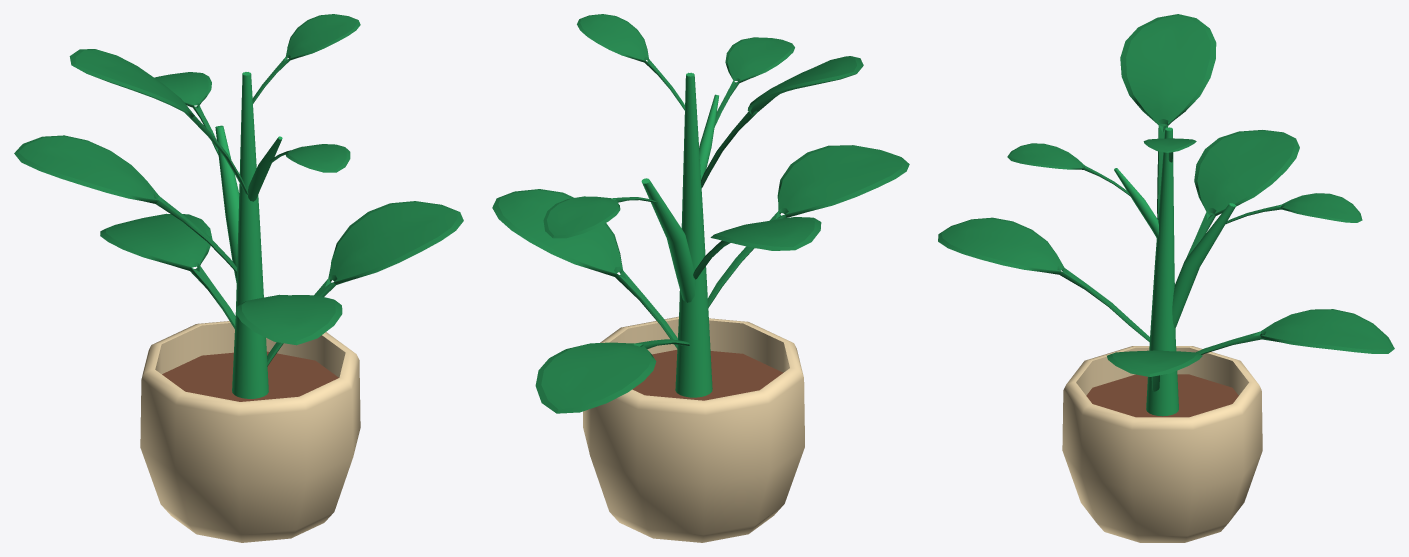
The model's file is Plant.fbx.
3 views of the same model, side by side, from view 1: azimuth 30°, elevation 25°; view 2: azimuth 150°, elevation 25°; view 3: azimuth 270°, elevation 25° (orthographic). The views are drawn at different scales.
Parts seen in each view (by area): view 1: Plant; view 2: Plant; view 3: Plant.
Part boxes in pixels (x1=…): Plant: x1=14, y1=14, x2=463, y2=542; Plant: x1=492, y1=14, x2=909, y2=542; Plant: x1=938, y1=14, x2=1394, y2=542.
Size of the model in its own units: 0.8234 by 1.02 by 0.975.
